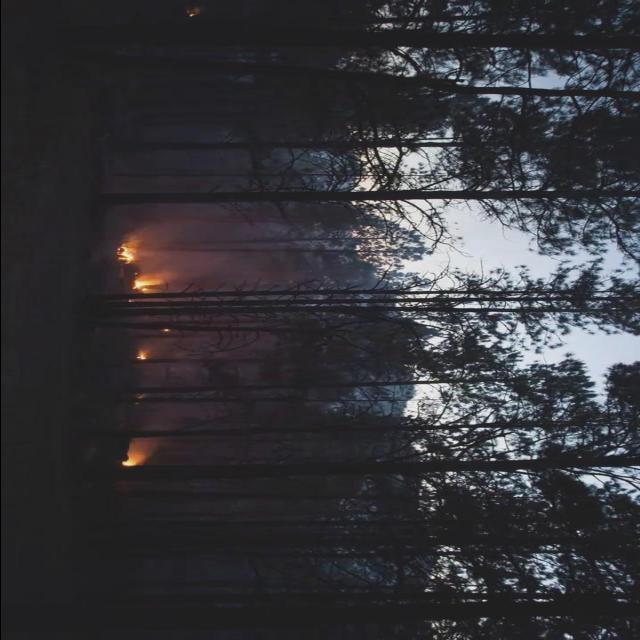Fire: (129, 275, 163, 291), (116, 242, 136, 266), (121, 454, 146, 466), (136, 350, 148, 360)
